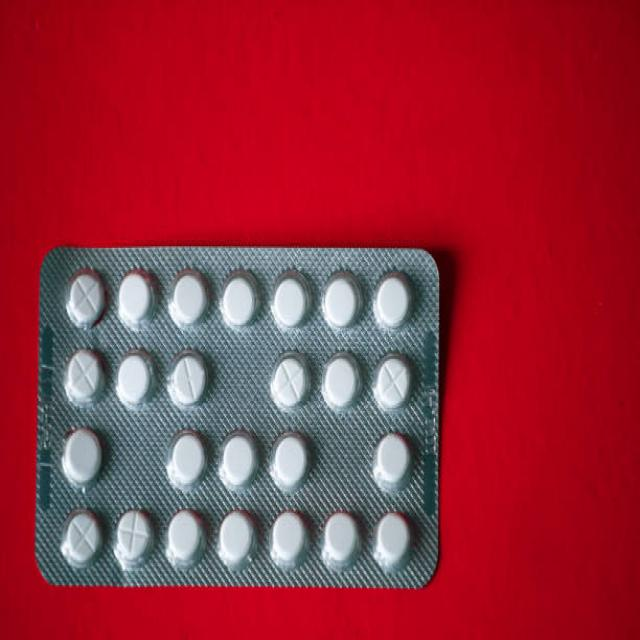Pill: (110, 336, 157, 419), (263, 347, 315, 418), (57, 343, 107, 411), (59, 500, 103, 576), (372, 264, 417, 338), (63, 269, 112, 335), (218, 262, 261, 336), (270, 263, 314, 335), (166, 348, 210, 418), (58, 424, 105, 489), (370, 350, 416, 416), (370, 427, 414, 496), (318, 504, 361, 574), (116, 267, 160, 334), (162, 426, 205, 494), (268, 429, 312, 494), (114, 500, 154, 571), (268, 502, 307, 574), (374, 508, 414, 574), (217, 505, 254, 574), (320, 268, 358, 335), (164, 504, 202, 570), (219, 425, 256, 492), (172, 269, 210, 332), (323, 350, 360, 414)
